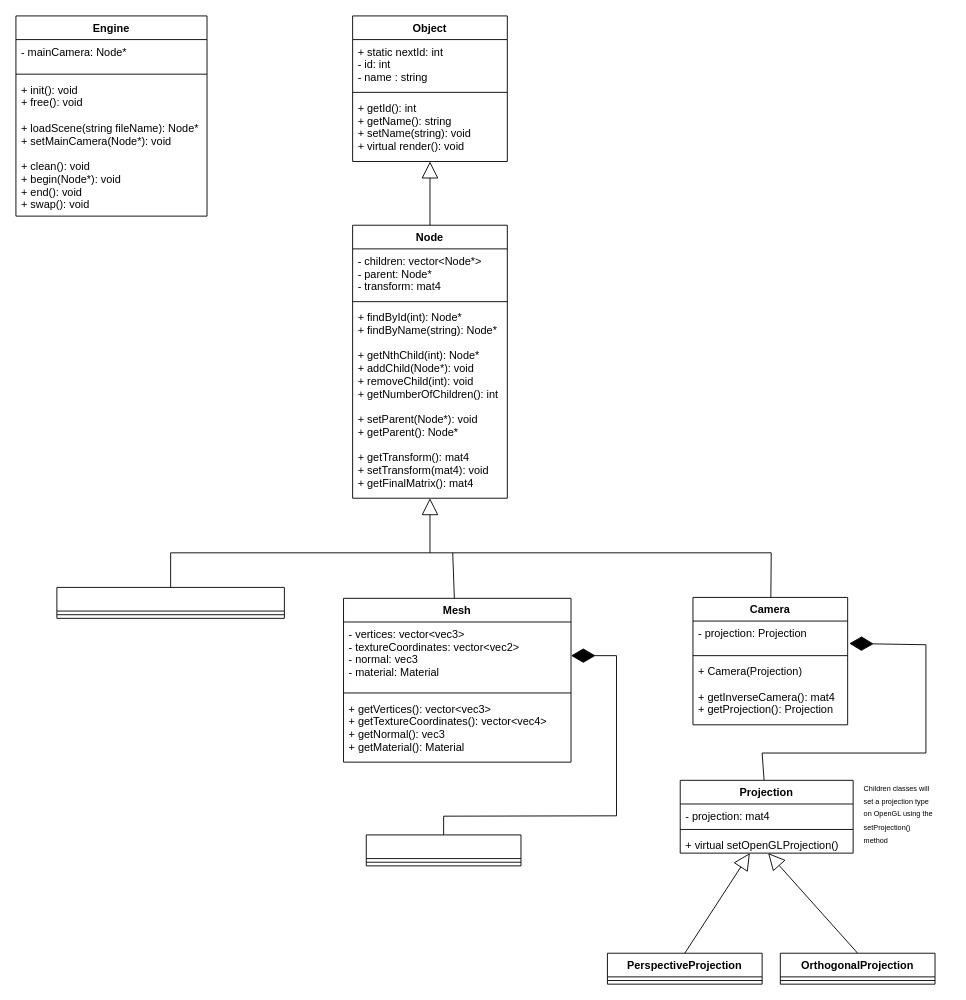
The diagram is 966 pixels wide and 1000 high, and some of its shapes have lost their labels. The shapes that lost their labels are listed below. From the top down, each one's centre as x and y in pixels, then its label:
At [170,602]: "Light".
At [443,850]: "Material".
